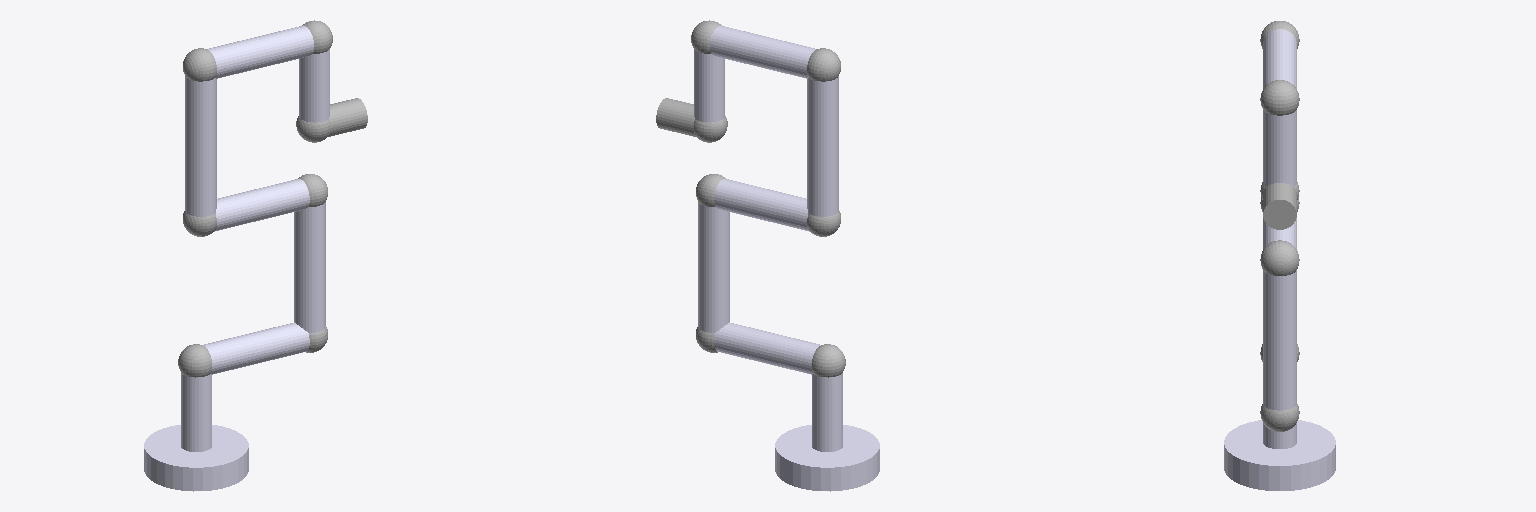
robot.urdf — six-axis:
<?xml version="1.0"?>
<robot name="six-axis" xmlns:xacro="http://www.ros.org/wiki/xacro" xmlns:ros2_control="http://www.ros.org/wiki/ros2_control">

<!-- Define gray color -->
  <material name="gray">
   <color rgba="0.75 0.75 0.75 1.0"/>
  </material>

<!-- Define silver color -->
<material name="silver">
    <!-- <color rgba="0.75 0.75 0.75 1.0"/> -->
    <color rgba="0.9 0.9 0.98 1.0"/>
</material>

<!-- Fixed Link -->
<link name="base_link"></link>

<!-- Fixed Joint -->
<joint name="j0" type="fixed">
    <origin xyz="0.0 0.0 0.0" rpy="0.0 0.0 0.0"/>
    <parent link="base_link"/>
    <child link="l0"/>
    <axis xyz="0.0 0.0 0.0"/>
    <limit lower="0.0" upper="0.0" effort="0.0" velocity="0.0"/>
</joint>

<link name="l0">
    <inertial>
			<origin xyz="0.0 0.0 25e-03" rpy="0 0 0"/>
			<mass value="2e+00"/>
			<inertia
				ixx="9.3895308e-03" ixy="0.0" ixz="1.1882474e-03"
				iyx="0.0" iyy="1.4207390e-02" iyz="9.2874266e-06"
				izx="1.1882474e-04"  izy="9.2874266e-06"  izz="1.7661948e-02"/>
	</inertial>
    <visual>
        <geometry>
            <cylinder radius="0.1" length="0.05"/>
        </geometry>
        <origin xyz="0.0 0.0 0.0" rpy="0.0 0.0 0.0"/>
        <material name="silver"/>
    </visual>
</link>

<joint name="j1" type="revolute">
    <origin xyz="0.0 0.0 0.0" rpy="0.0 0.0 0.0"/>
    <parent link="l0"/>
    <child link="l1"/>
    <axis xyz="0.0 0.0 1.0"/>
    <limit lower="-3.14159265359" upper="3.14159265359" effort="0.0" velocity="0.0"/>
</joint>

<link name="l1">
     <inertial>
			<origin xyz="0.0 0.0 +0.25" rpy="0 0 0"/>
			<mass value="1e+00"/>
			<inertia 
            ixx="1.3778118e-01" ixy="5.1395441e-06" ixz="2.1163457e-04"
            iyx="5.1395441e-06" iyy="1.3826689e-01" iyz="1.1751288e-02" 
            izx="2.1163457e-04" izy="1.1751288e-02" izz="3.5020186e-02"/>
	</inertial>
    <visual>
        <geometry>
            <cylinder radius="0.03" length="0.2"/>
        </geometry>
        <origin xyz="0.0 0.0 0.1" rpy="0.0 0.0 0.0"/>
        <material name="silver"/>
    </visual>
    <!-- Add a sphere to create a curved joint -->
    <visual>
      <geometry>
        <sphere radius="0.035"/>
      </geometry>
      <origin xyz="0.0 0.0 0.2" rpy="0.0 0.0 0.0"/>
      <material name="gray"/>
    </visual>
</link>

<!-- Dummy Joint -->
<joint name="j_dummy_1_2" type="fixed">
    <origin xyz="0.0 0.0 0.2" rpy="0.0 0.0 0.0"/>
    <parent link="l1"/>
    <child link="l2"/>
</joint>

<link name="l2">
     <inertial>
			<origin xyz="0.25 0.0 0.0" rpy="0 0 0"/> 
			<mass value="1e+00"/>
			<inertia
				ixx="3.0406895e-01" ixy="5.6383979e-04" ixz="4.4113010e-01"
				iyx="5.6383979e-04" iyy="1.9934350e+00" iyz="1.2111129e-06"
				izx="4.4113010e-01" izy="1.2111129e-06" izz="1.7471456e+00"/>
	</inertial>
    <visual>
        <geometry>
            <cylinder radius="0.03" length="0.25"/>
        </geometry>
        <origin xyz="0.125 0.0 0.0" rpy="0.0 1.57079632679 0.0"/>
        <material name="silver"/>
    </visual>
    <!-- Add a sphere to create a curved joint -->
    <visual>
      <geometry>
        <sphere radius="0.035"/>
      </geometry>
      <origin xyz="0.25 0.0 0.0" rpy="0.0 0.0 0.0"/>
      <material name="gray"/>
    </visual>
</link>

<joint name="j2" type="revolute">
    <origin xyz="0.25 0.0 0.0" rpy="0.0 1.57079632679 0.0"/>
    <parent link="l2"/>
    <child link="l3"/>
    <axis xyz="0.0 0.0 1.0"/>
    <limit lower="-1.57079632679" upper="1.57079632679" effort="0.0" velocity="0.0"/>
</joint>


<link name="l3">
     <inertial>
			<origin xyz="-0.15 0.0 0.0" rpy="0 0 0"/> 
			<mass value="3e+00"/>
			<inertia
				ixx="3.1982320e-02" ixy="-1.5528529e-05" ixz="-4.8994800e-05"
				iyx="-1.5528529e-05" iyy="2.8261283e-02" iyz="7.1406845e-03"
				izx="-4.8994800e-05" izy="7.1406845e-03" izz="8.8063347e-03"/>
	</inertial>
    <visual>
        <geometry>
            <cylinder radius="0.03" length="0.3"/>
        </geometry>
        <origin xyz="-0.15 0.0 0.0 " rpy="0.0  1.57079632679 0.0"/>
        <material name="silver"/>
    </visual>
    <!-- Add a sphere to create a curved joint -->
    <visual>
      <geometry>
        <sphere radius="0.035"/>
      </geometry>
      <origin xyz="0.0 0.0 0.0" rpy="0.0 0.0 0.0"/>
      <material name="gray"/>
    </visual>
</link>

<joint name="j3" type="revolute">
    <origin xyz="-0.30 0.0 0.0" rpy="0.0 0.0 0.0"/>
    <parent link="l3"/>
    <child link="l4"/>
    <axis xyz="0.0 0.0 1.0"/>
    <limit lower="-1.57079632679" upper="1.57079632679" effort="0.0" velocity="0.0"/>
</joint>



<link name="l4">
     <inertial>
			<origin xyz="0.0 0.0 -0.12" rpy="0 0 0"/> 
			<mass value="1e+00"/>
			<inertia
				ixx="3.0406895e-01" ixy="5.6383979e-04" ixz="4.4113010e-01"
				iyx="5.6383979e-04" iyy="1.9934350e+00" iyz="1.2111129e-06"
				izx="4.4113010e-01" izy="1.2111129e-06" izz="1.7471456e+00"/>
	</inertial>
    <visual>
        <geometry>
            <cylinder radius="0.03" length="0.24"/>
        </geometry>
        <origin xyz="0.0 0.0 -0.12" rpy="0.0 0.0 0.0"/>
        <material name="silver"/>
    </visual>
    <!-- Add a sphere to create a curved joint -->
    <visual>
      <geometry>
        <sphere radius="0.035"/>
      </geometry>
      <origin xyz="0.0 0.0 0.0" rpy="0.0 0.0 0.0"/>
      <material name="gray"/>
    </visual>
</link>

<!-- Dummy Joint -->
<joint name="j_dummy" type="fixed">
    <origin xyz="0.0 0.0 -0.24" rpy="0.0 0.0 0.0"/>
    <parent link="l4"/>
    <child link="l5"/>
</joint>



<link name="l5">
     <inertial>
			<origin xyz="-0.16 0.0 0.0" rpy="0.0 0.0 0.0"/> 
			<mass value="3e+00"/>
			<inertia
				ixx="1.3754675e-02" ixy="-1.5528630e-05" ixz="-2.8051809e-05"
				iyx="-1.5528630e-05" iyy="9.9916676e-03" iyz="3.9023300e-03"
				izx="-2.8051809e-05" izy="3.9023300e-03" izz="7.6137437e-03"/>
	</inertial>
    <visual>
        <geometry>
            <cylinder radius="0.03" length="0.32"/>
        </geometry>
        <origin xyz="-0.16 0.0 0.0 " rpy="0.0 1.57079632679 0.0"/>
        <material name="silver"/>
    </visual>
    <!-- Add a sphere to create a curved joint -->
    <visual>
      <geometry>
        <sphere radius="0.035"/>
      </geometry>
      <origin xyz="0.0 0.0 0.0" rpy="0.0 0.0 0.0"/>
      <material name="gray"/>
    </visual>
</link>

<joint name="j4" type="revolute">
    <origin xyz="-0.32 0.0 0.0" rpy="0.0 0.0 0.0"/>
    <parent link="l5"/>
    <child link="l6"/>
    <axis xyz="0.0 0.0 1.0"/>
    <limit lower="-1.57079632679" upper="1.57079632679" effort="0.0" velocity="0.0"/>
</joint>



<link name="l6">
     <inertial>
			 <origin xyz="0.0 0.0 0.125" rpy="0.0 0.0 0.0"/> 
			<mass value="1e+00"/>
			<inertia
				ixx="9.3016047e-04" ixy="-2.9405026e-07" ixz="1.0421409e-05"
				iyx="-2.9405026e-07" iyy="9.5021553e-04" iyz="-1.7371494e-06"
				izx="1.0421409e-05" izy="-1.7371494e-06" izz="8.4567154e-04"/>
	</inertial>
    <visual>
        <geometry>
            <cylinder radius="0.03" length="0.25"/>
        </geometry>
        <origin xyz="0.0 0.0 0.125" rpy="0.0 0.0 0.0"/>
        <material name="silver"/>
    </visual>
    <!-- Add a sphere to create a curved joint -->
    <visual>
      <geometry>
        <sphere radius="0.035"/>
      </geometry>
      <origin xyz="0.0 0.0 0.0" rpy="0.0 0.0 0.0"/>
      <material name="gray"/>
    </visual>
</link>

<joint name="j5" type="revolute">
    <origin xyz="0.0 0.0 0.25" rpy="0.0 -1.57079632679 3.14159265359"/>
    <parent link="l6"/>
    <child link="le"/>
    <axis xyz="0.0 0.0 1.0"/>
    <limit lower="-3.14159265359" upper="3.14159265359" effort="0.0" velocity="0.0"/>
</joint>



<link name="le">
     <inertial>
			 <origin xyz="0.0 0.0 0.09" rpy="0.0 0.0 0.0"/> 
			<mass value="1e+00"/>
			<inertia
				ixx="9.3016047e-04" ixy="-2.9405026e-07" ixz="1.0421409e-05"
				iyx="-2.9405026e-07" iyy="9.5021553e-04" iyz="-1.7371494e-06"
				izx="1.0421409e-05" izy="-1.7371494e-06" izz="8.4567154e-04"/>
	</inertial>
    <visual>
        <geometry>
            <cylinder radius="0.03" length="0.18"/>
        </geometry>
        <origin xyz="0.0 0.0 0.09" rpy="0.0 0.0 0.0"/>
        <material name="silver"/>
    </visual>
    <!-- Add a sphere to create a curved joint -->
    <visual>
      <geometry>
        <sphere radius="0.035"/>
      </geometry>
      <origin xyz="0.0 0.0 0.0" rpy="0.0 0.0 0.0"/>
      <material name="gray"/>
    </visual>
</link>

<joint name="j6" type="revolute">
    <origin xyz="0.0 0.0 0.18" rpy="0.0 1.57079632679 0.0"/>
    <parent link="le"/>
    <child link="le_1"/>
    <axis xyz="0.0 0.0 1.0"/>
    <limit lower="-3.14159265359" upper="3.14159265359" effort="0.0" velocity="0.0"/>
</joint>

<link name="le_1">
     <inertial>
			 <origin xyz="0.0 0.0 0.05" rpy="0.0 0.0 0.0"/> 
			<mass value="1e+00"/>
			<inertia
				ixx="9.3016047e-04" ixy="-2.9405026e-07" ixz="1.0421409e-05"
				iyx="-2.9405026e-07" iyy="9.5021553e-04" iyz="-1.7371494e-06"
				izx="1.0421409e-05" izy="-1.7371494e-06" izz="8.4567154e-04"/>
	</inertial>
    <visual>
        <geometry>
            <cylinder radius="0.03" length="0.1"/>
        </geometry>
        <origin xyz="0.0 0.0 0.05 " rpy="0.0 0.0 0.0"/>
        <material name="gray"/>
    </visual>
    <!-- Add a sphere to create a curved joint -->
    <visual>
      <geometry>
        <sphere radius="0.035"/>
      </geometry>
      <origin xyz="0.0 0.0 0.0" rpy="0.0 0.0 0.0"/>
      <material name="gray"/>
    </visual>
</link>

</robot>

--- Render facts (derived) ---
3 views of the same robot in one strip: view 1: azimuth 30°, elevation 25°; view 2: azimuth 150°, elevation 25°; view 3: azimuth 270°, elevation 25° (orthographic).
Robot: six-axis — 10 links, 9 joints (6 revolute, 3 fixed); root link base_link; default pose: every joint at zero.
Visible links, largest first — view 1: l0, l5, l3, l6, l4, l2, l1, le, le_1; view 2: l0, l5, l6, l3, l4, l2, l1, le, le_1; view 3: l0, l3, le, l6, l4, le_1, l1.
Link boxes in pixels (<box>): l0: <box>144,425,248,491</box>; l5: <box>183,76,216,236</box>; l3: <box>294,202,327,352</box>; l6: <box>183,25,313,81</box>; l4: <box>214,174,327,231</box>; l2: <box>203,322,327,374</box>; l1: <box>178,344,211,451</box>; le: <box>299,20,332,122</box>; le_1: <box>296,98,367,142</box>; l0: <box>775,425,879,491</box>; l5: <box>807,76,840,236</box>; l6: <box>710,25,840,81</box>; l3: <box>696,202,729,352</box>; l4: <box>696,174,809,231</box>; l2: <box>696,322,820,374</box>; l1: <box>812,344,845,451</box>; le: <box>691,20,724,122</box>; le_1: <box>656,98,727,142</box>; l0: <box>1224,420,1335,490</box>; l3: <box>1260,270,1299,431</box>; le: <box>1260,80,1299,185</box>; l6: <box>1260,21,1299,88</box>; l4: <box>1260,218,1299,275</box>; le_1: <box>1260,182,1299,229</box>; l1: <box>1260,344,1299,448</box>.
Bounding box of the posed robot: 0.46 × 0.2 × 0.88 m (x, y, z).
Geometry: primitives only (box / cylinder / sphere), no mesh files.
